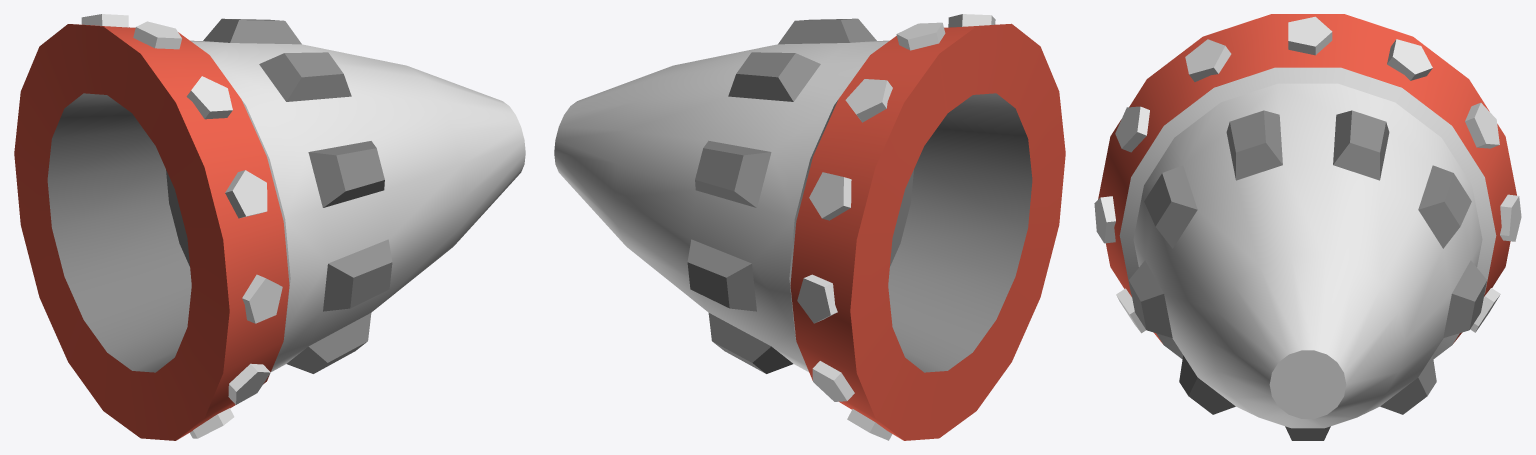
File: rocket_1.fbx
3 views of the same model, side by side, from view 1: azimuth 30°, elevation 25°; view 2: azimuth 150°, elevation 25°; view 3: azimuth 270°, elevation 25° (orthographic). The views are drawn at different scales.
Parts seen in each view (by area): view 1: rocket_1; view 2: rocket_1; view 3: rocket_1.
Boxes of the visible parts, box(x1,y1,x2,y2) form: rocket_1: box(14, 14, 525, 440); rocket_1: box(554, 14, 1065, 440); rocket_1: box(1094, 14, 1521, 440).
Size of the model in its own units: 68.77 by 67.44 by 67.44.
